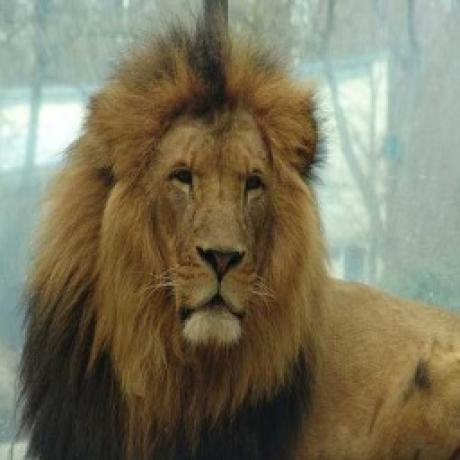Lion: (19, 19, 460, 460)
